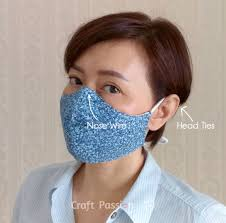cloth_mask: (58, 85, 154, 165)
